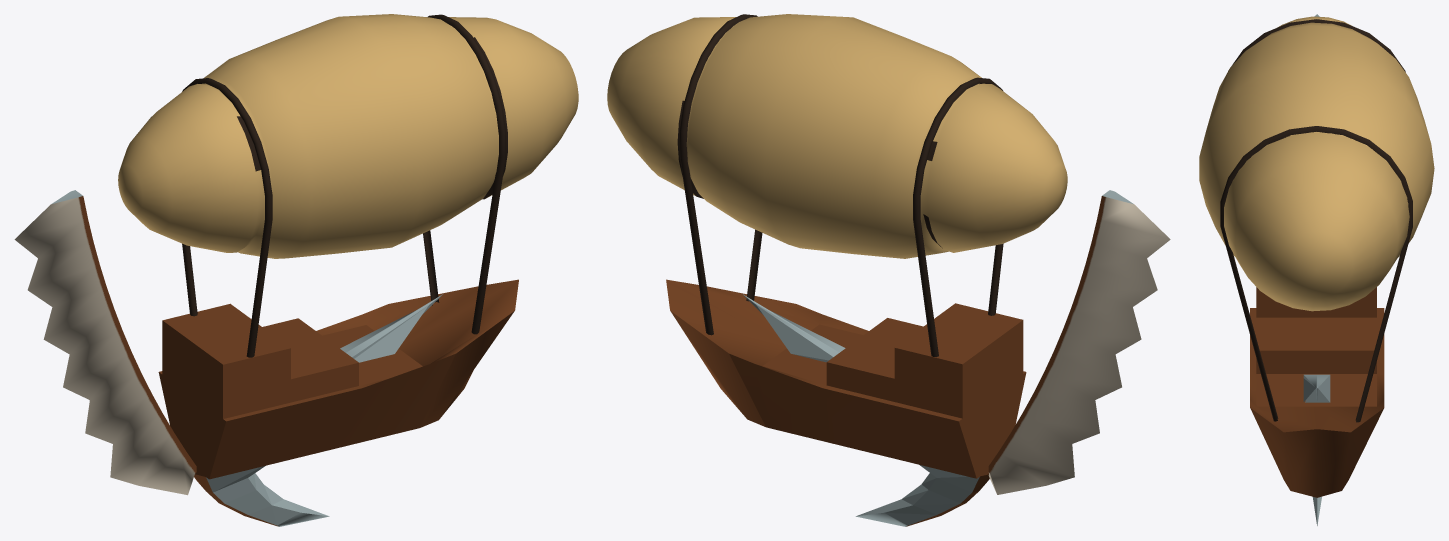
The model's file is Enemy 1.FBX.
3 views of the same model, side by side, from view 1: azimuth 30°, elevation 25°; view 2: azimuth 150°, elevation 25°; view 3: azimuth 270°, elevation 25° (orthographic).
Visible parts, largest first — view 1: Sphere001, Box001, Box002, Torus001; view 2: Sphere001, Box001, Box002, Torus001; view 3: Sphere001, Box001, Torus001.
Boxes of the visible parts, box(x1,y1,x2,y2) form: Sphere001: box(118, 14, 578, 258); Box001: box(158, 279, 518, 526); Box002: box(14, 190, 196, 495); Torus001: box(182, 14, 505, 357); Sphere001: box(607, 14, 1067, 258); Box001: box(666, 279, 1026, 526); Box002: box(988, 190, 1170, 494); Torus001: box(679, 14, 1003, 357); Sphere001: box(1199, 16, 1434, 311); Box001: box(1250, 287, 1384, 525); Torus001: box(1220, 19, 1412, 422).
Bounding box in the file's own units: 59.48 × 49.31 × 21.87.
1 material, 1 textured.
